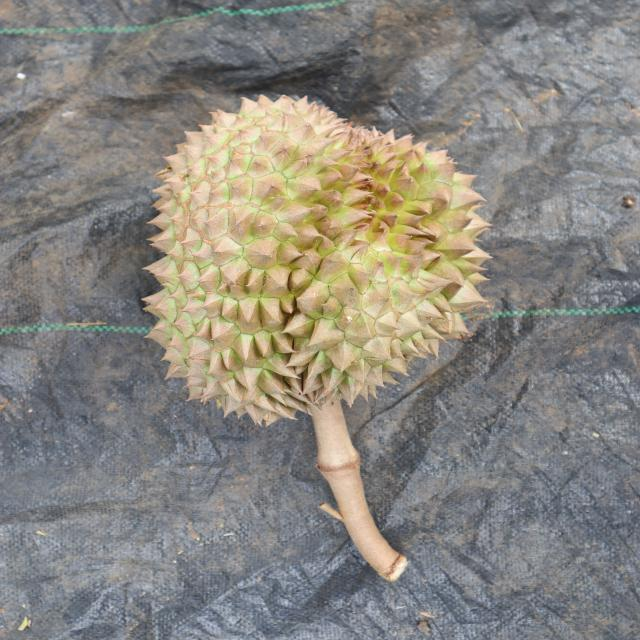mature: (144, 94, 498, 422)
